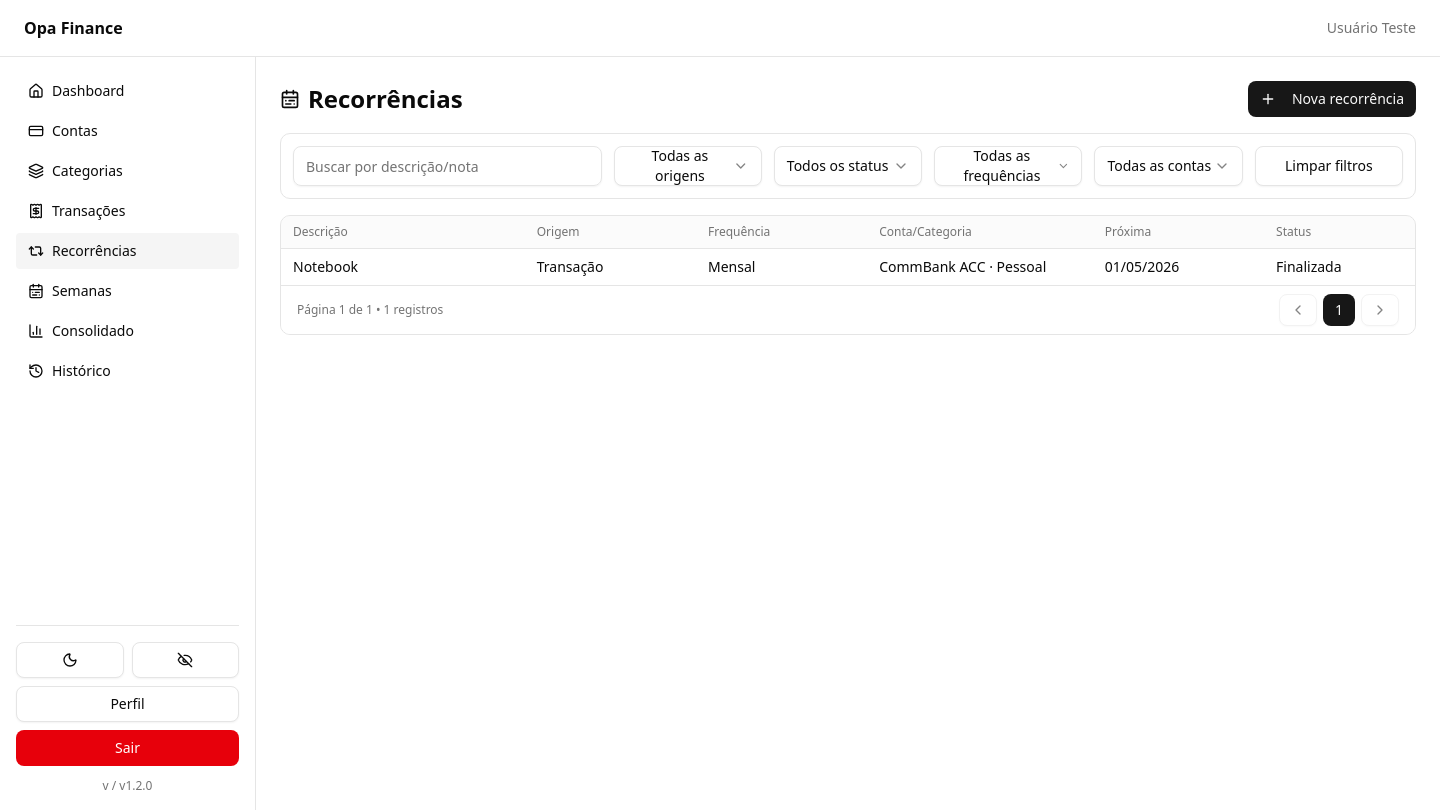
Scenario: recurrences feature › deve fechar detalhes após excluir recorrência finalizada
Check: the heading "Recorrências" is shown, box [280,83,463,115]
Check: the text "Notebook" is shown, box [293,257,358,276]
Click the button that starts with "Notebook": (326, 266) [293,257,1342,276]
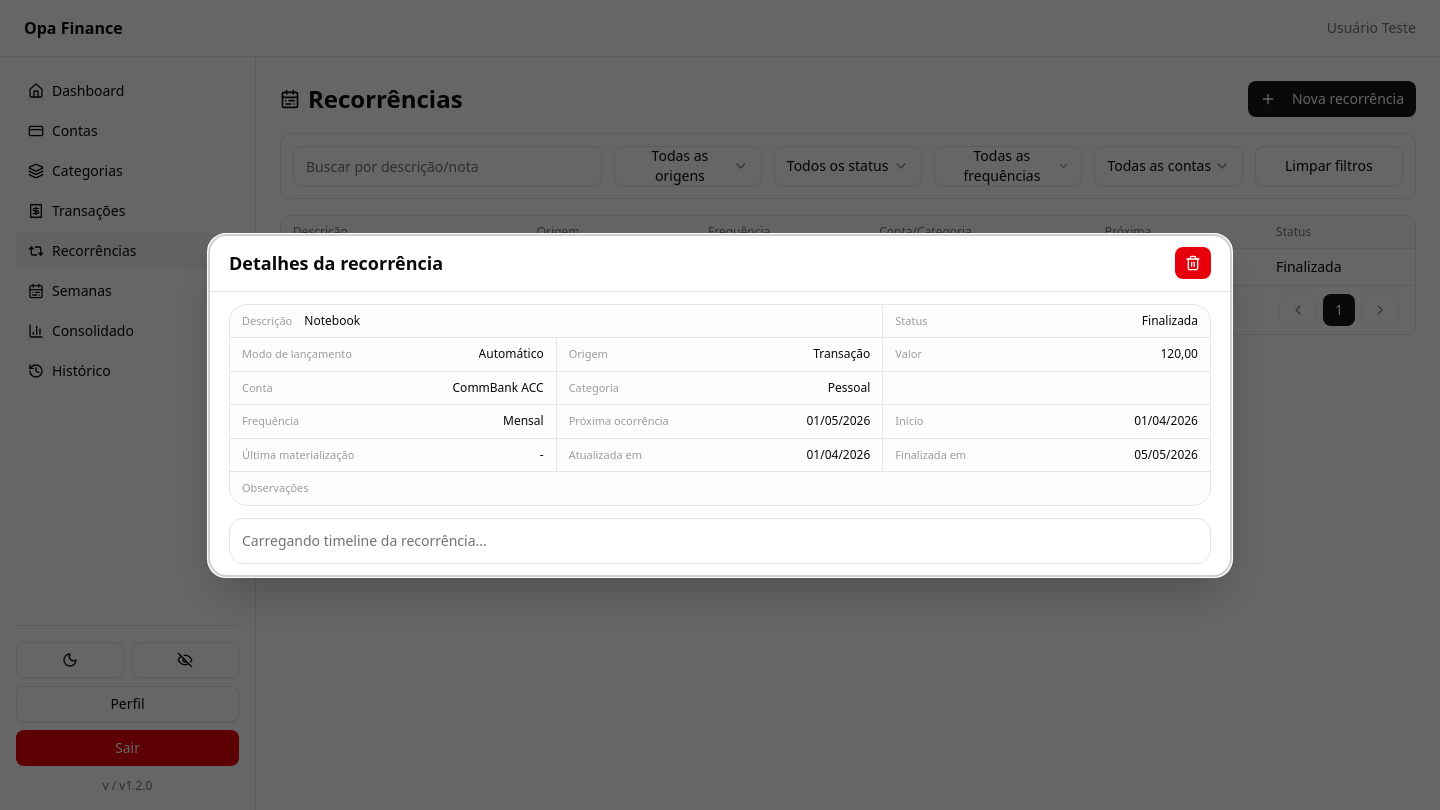
Click the button named "Excluir recorrência": (1193, 262) [1175,246,1211,278]
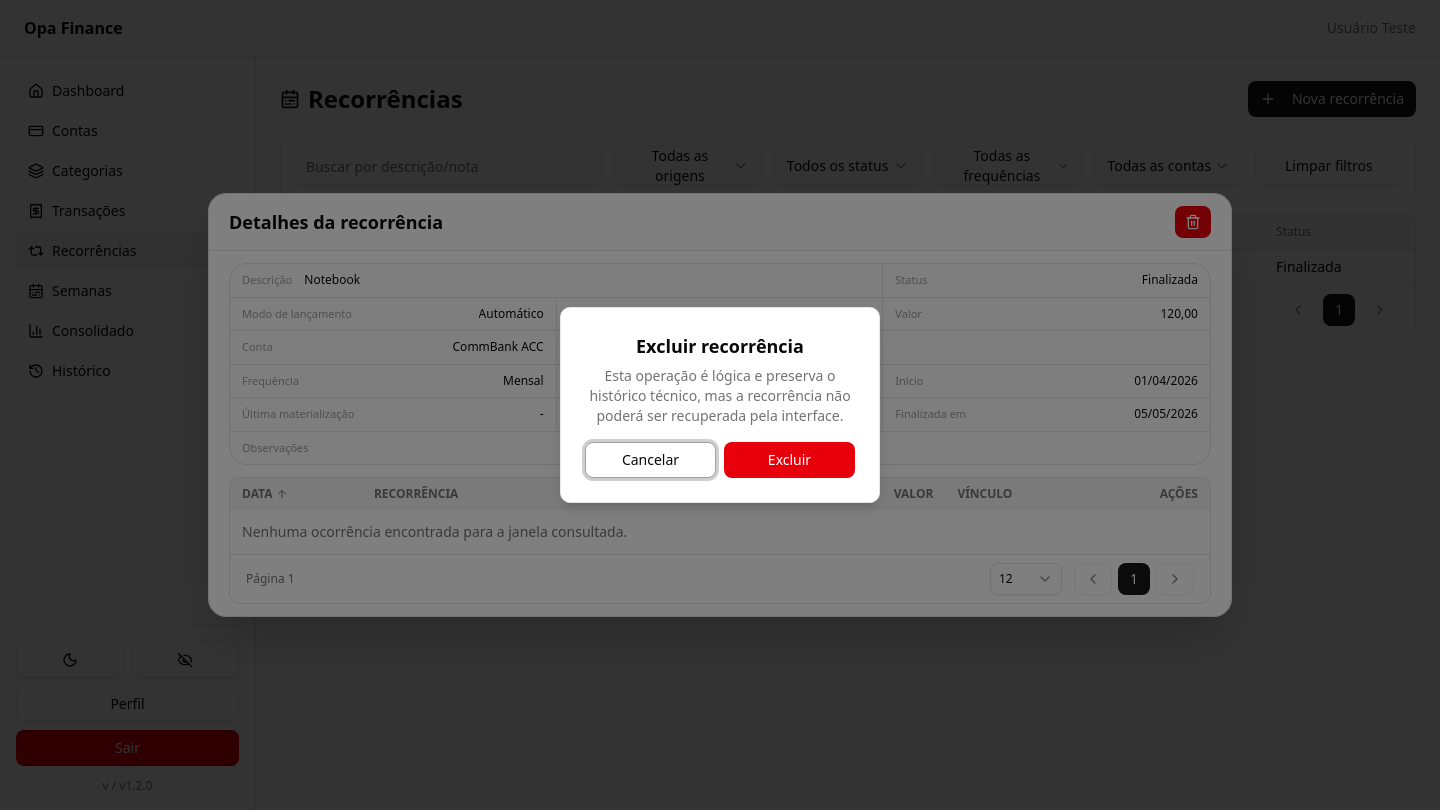
Click the button "Excluir": (790, 460) [724,442,855,478]
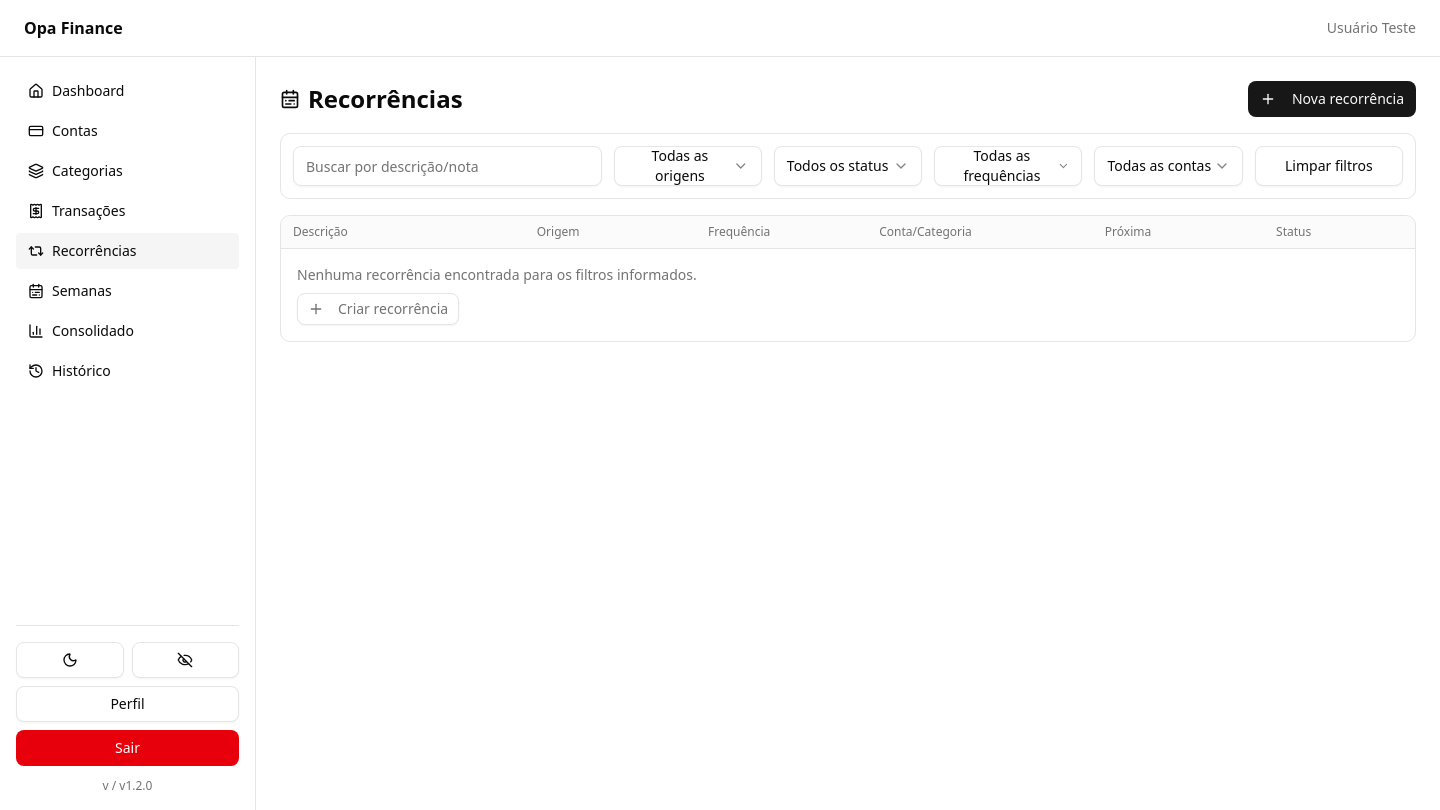
Check: the heading "Detalhes da recorrência" is gone
